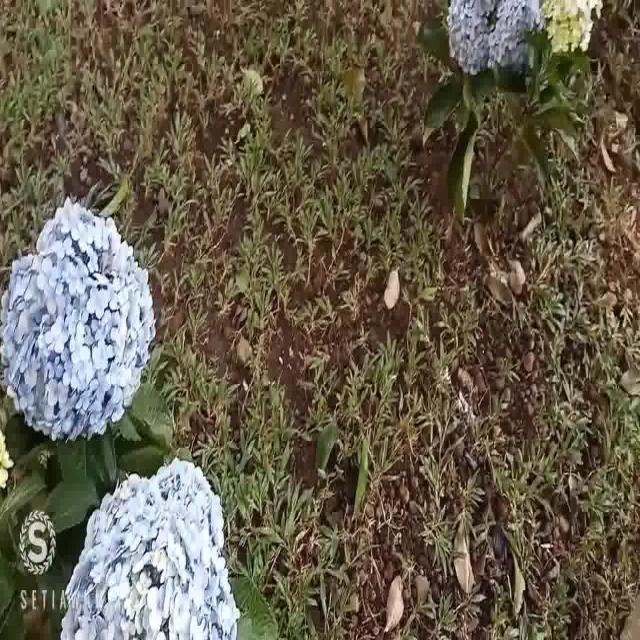Flower: (1, 194, 160, 448), (46, 458, 248, 640)
